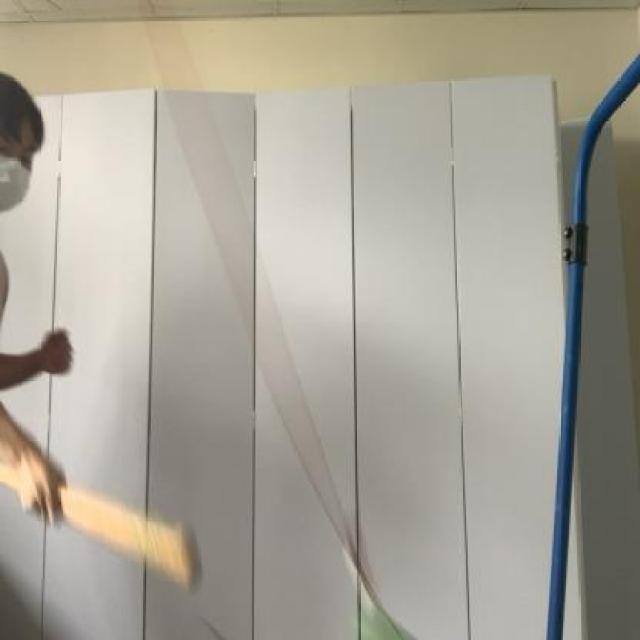baseball: (335, 601, 415, 640)
